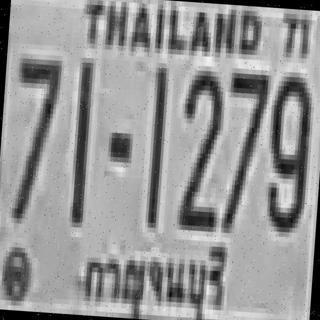N01: (68, 59, 92, 225), (68, 57, 92, 222), (142, 65, 166, 225)
N02: (175, 65, 223, 227)
N07: (6, 53, 59, 220), (218, 68, 269, 230)
N09: (263, 70, 311, 228)
P17: (73, 232, 233, 320)
